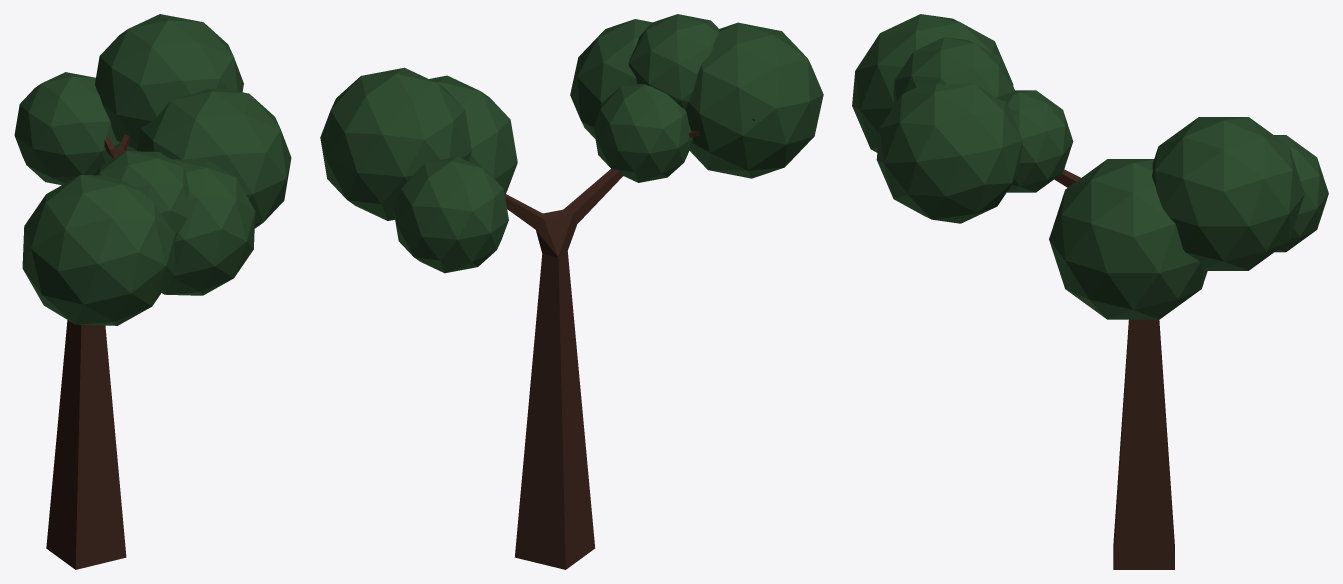
Rendered from Tree.obj.
The picture shows the model from 3 angles, left to right: view 1: azimuth 30°, elevation 25°; view 2: azimuth 150°, elevation 25°; view 3: azimuth 270°, elevation 25°; orthographic projection. The views are drawn at different scales.
Visible parts, largest first — view 1: prop_tree_Icosphere.003; view 2: prop_tree_Icosphere.003; view 3: prop_tree_Icosphere.003.
Part boxes in pixels (x1,y1,x2,y2): prop_tree_Icosphere.003: (14, 14, 291, 569); prop_tree_Icosphere.003: (320, 14, 823, 569); prop_tree_Icosphere.003: (852, 14, 1328, 569).
Bounding box in the file's own units: 3.44 × 4.56 × 3.96.
